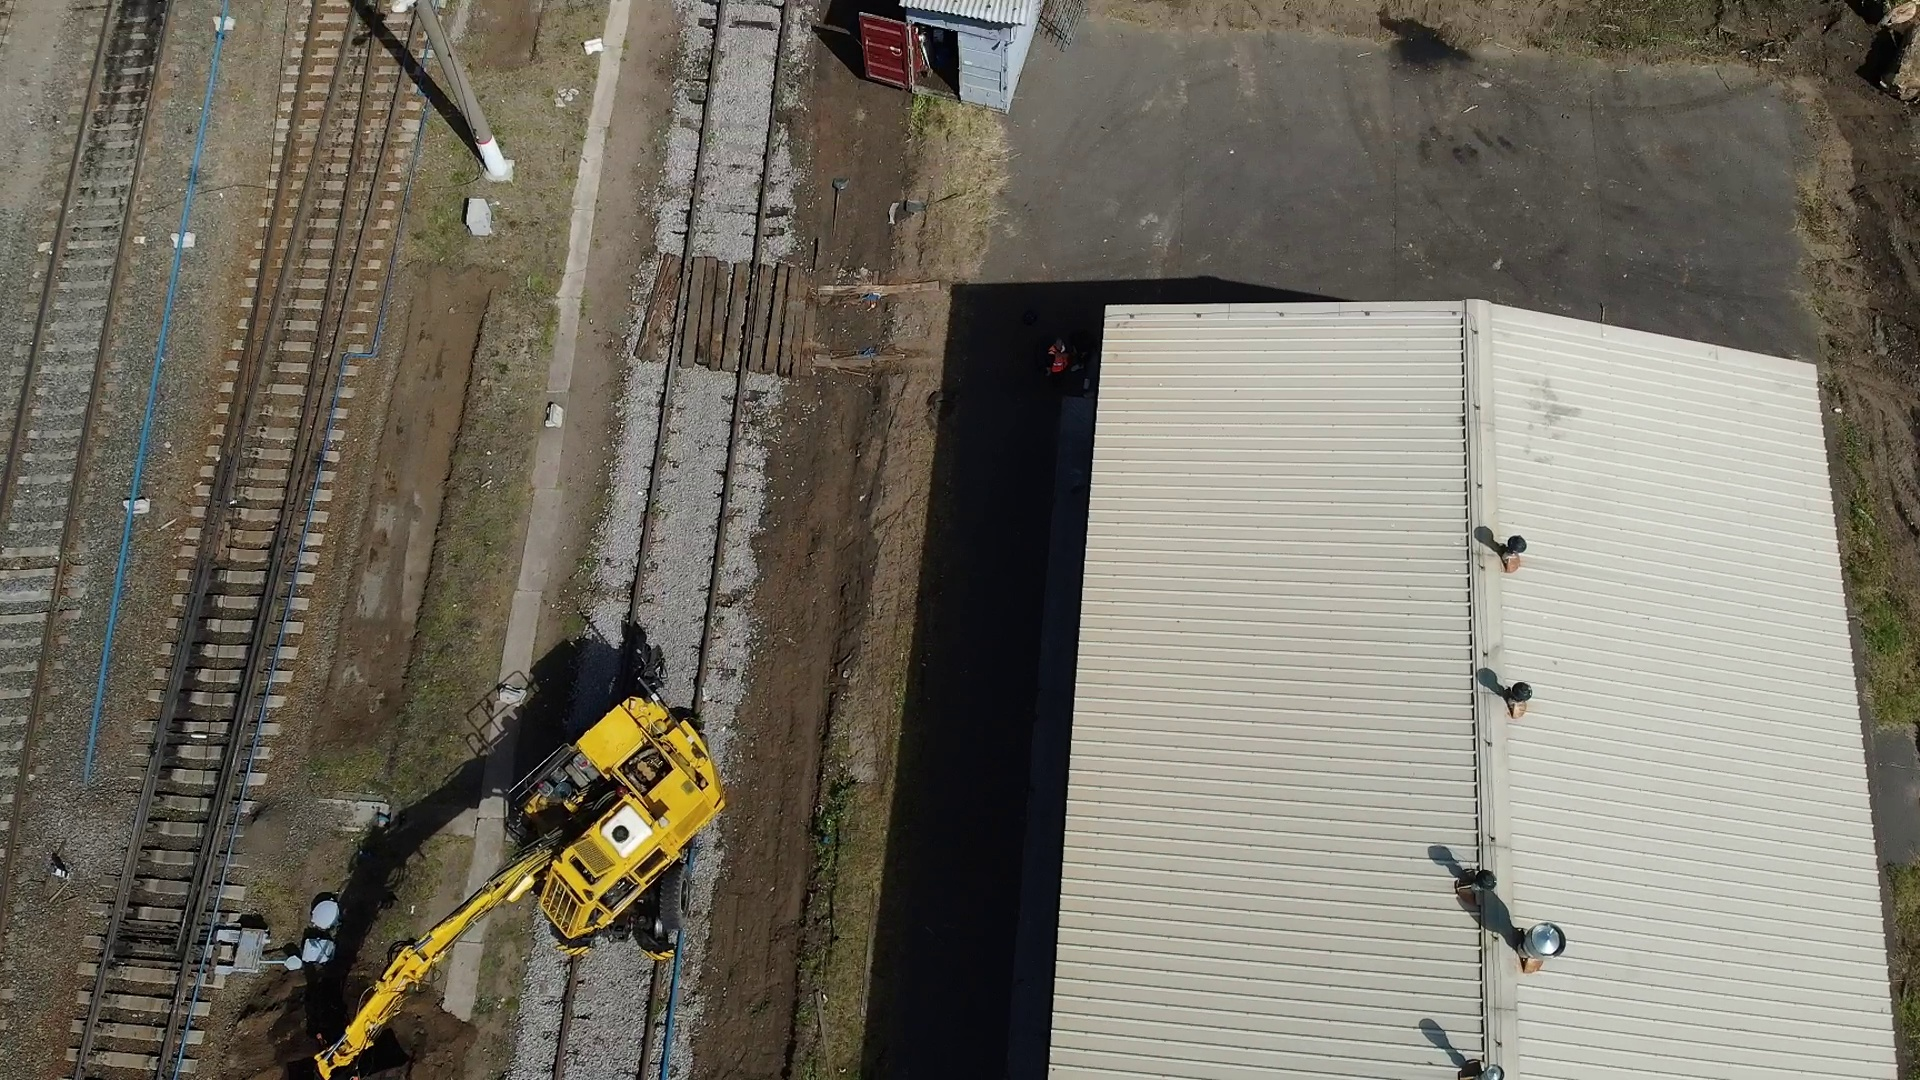kjtv: (392, 690, 726, 979)
